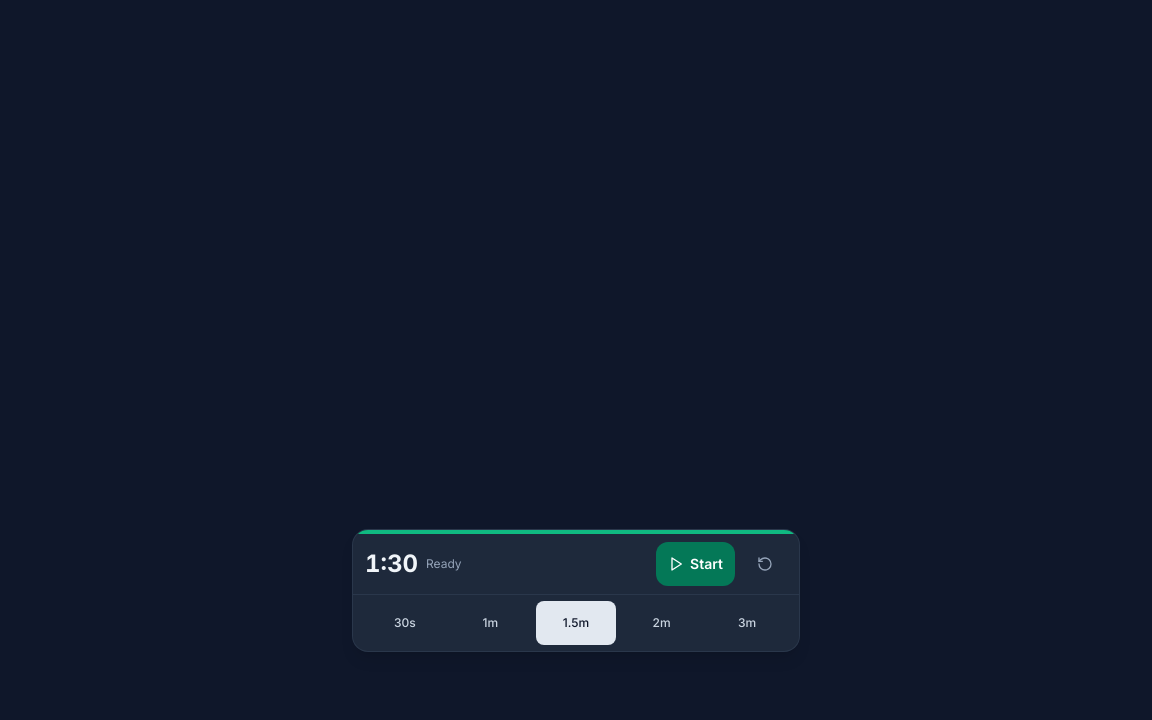
Test case: RestTimer finish alerts › still finishes cleanly when vibration is unsupported and audio construction throws
Click the button "Start" at (696, 564), box 656,542 -> 735,586
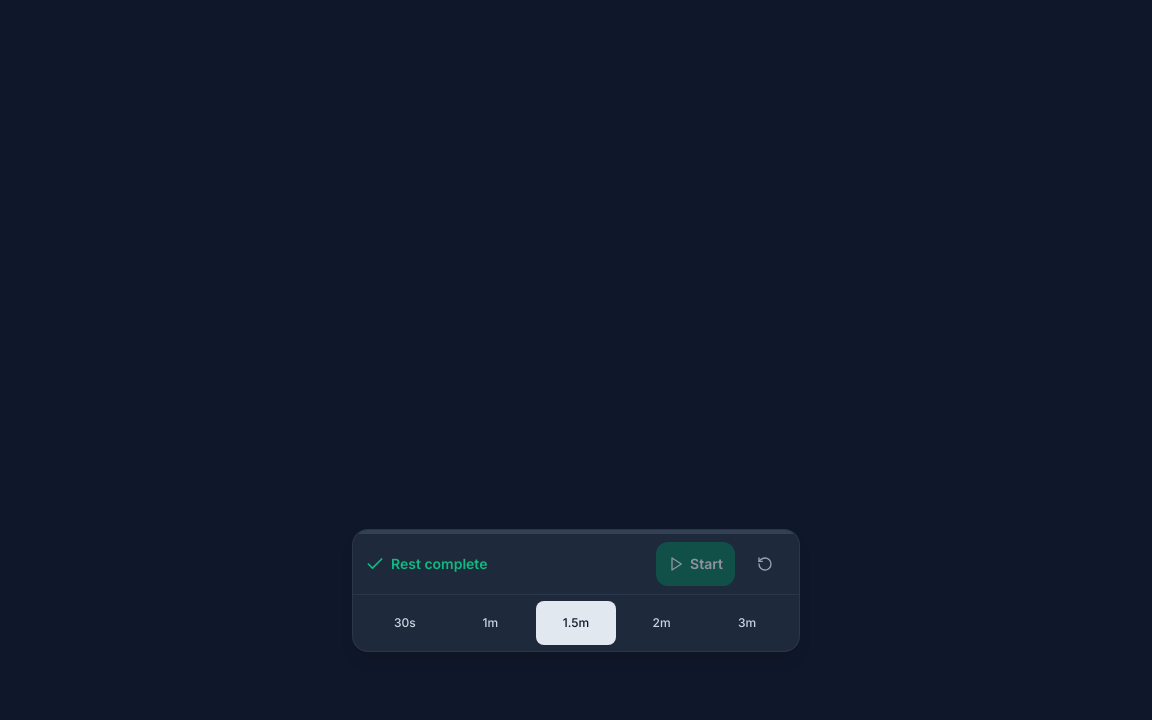
Check: the message reads "Rest complete", box 391,555 -> 488,572
